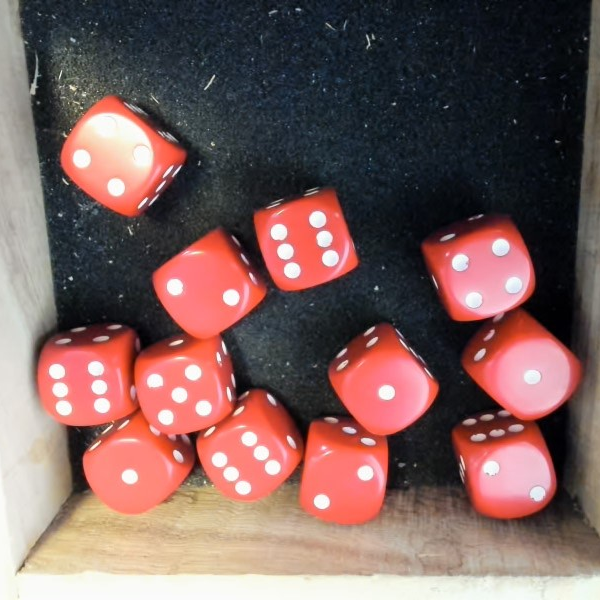red_die_pip1: (63, 392, 210, 537), (312, 307, 451, 448), (452, 298, 589, 434)
red_die_pip2: (137, 212, 283, 356), (446, 403, 567, 530), (291, 411, 395, 530)
red_die_pip4: (47, 75, 206, 235), (405, 198, 546, 338)
red_die_pip5: (121, 320, 249, 445)
red_die_pip6: (183, 383, 320, 518), (245, 172, 370, 297), (27, 320, 147, 431)
